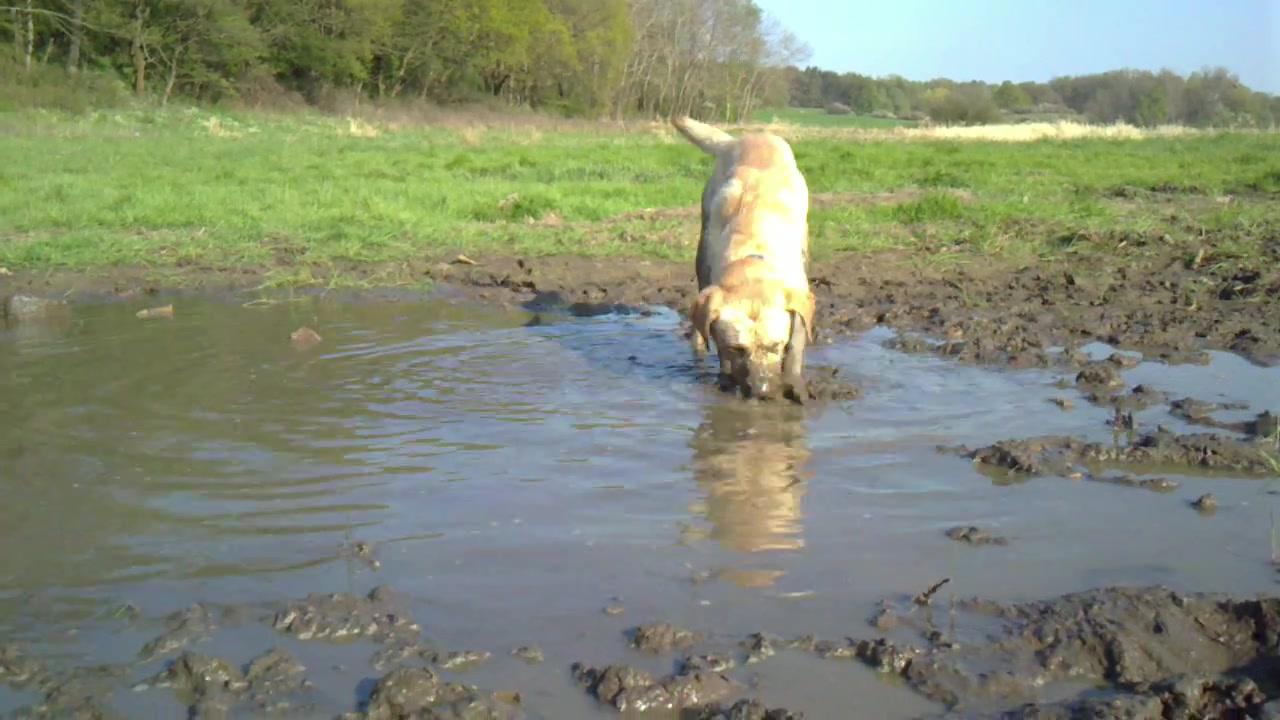dog: (667, 110, 819, 406)
